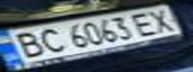0: (81, 19, 103, 47)
3: (112, 12, 136, 42)
6: (63, 20, 90, 50), (96, 16, 121, 44)
B: (3, 29, 48, 60)
C: (30, 25, 69, 55)
E: (127, 9, 166, 38)
X: (142, 6, 184, 35)
